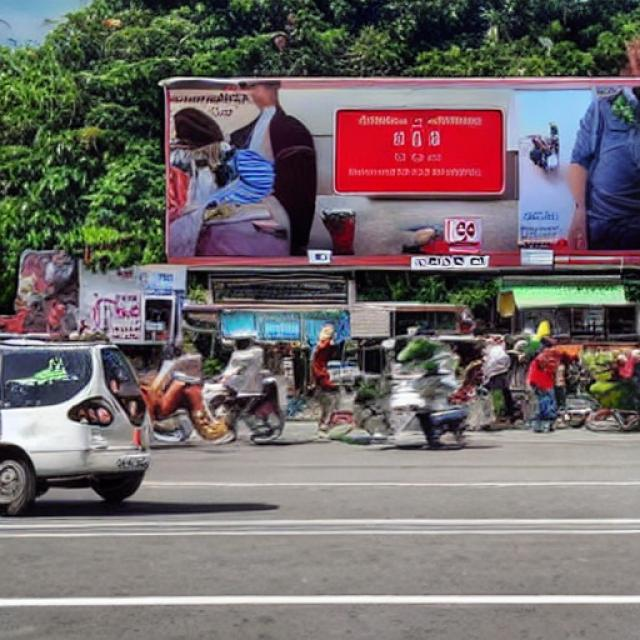Billboard: (156, 75, 640, 273)
